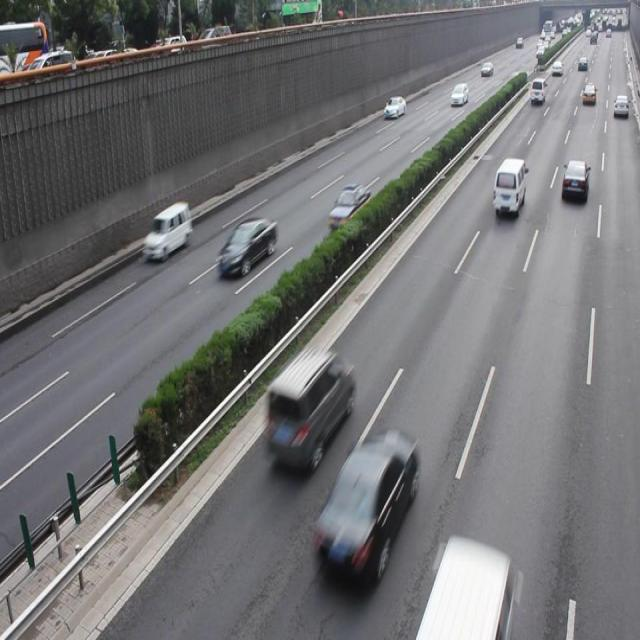car: (312, 425, 416, 580), (263, 345, 349, 470), (217, 216, 276, 276), (142, 202, 192, 258), (328, 183, 371, 227), (560, 159, 587, 201)
truck: (419, 538, 508, 640), (492, 156, 525, 214)
